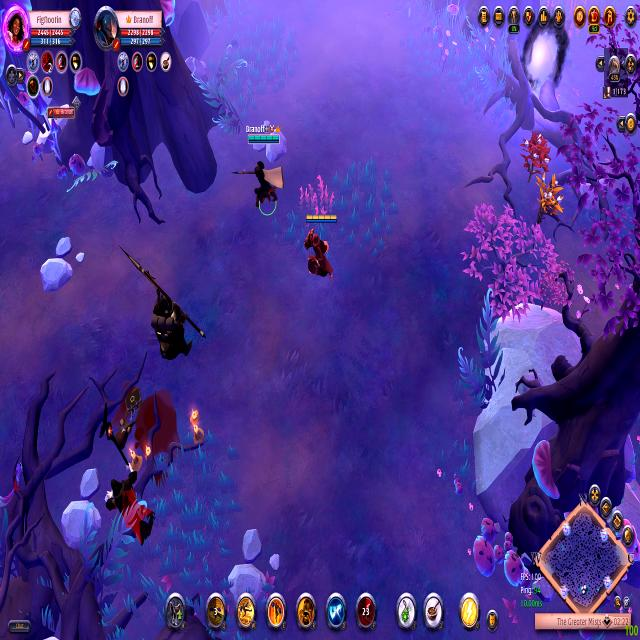hide: (520, 123, 549, 196), (532, 170, 564, 226)
ore: (114, 238, 210, 382), (91, 405, 165, 564)
red: (240, 120, 286, 224), (304, 208, 341, 284)
